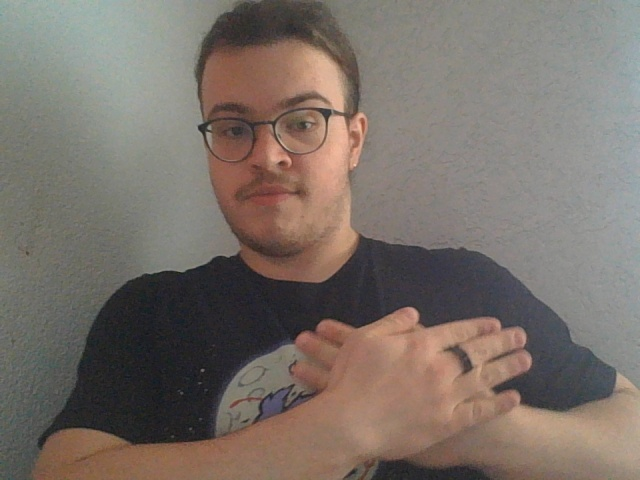Love: (287, 306, 535, 480)
